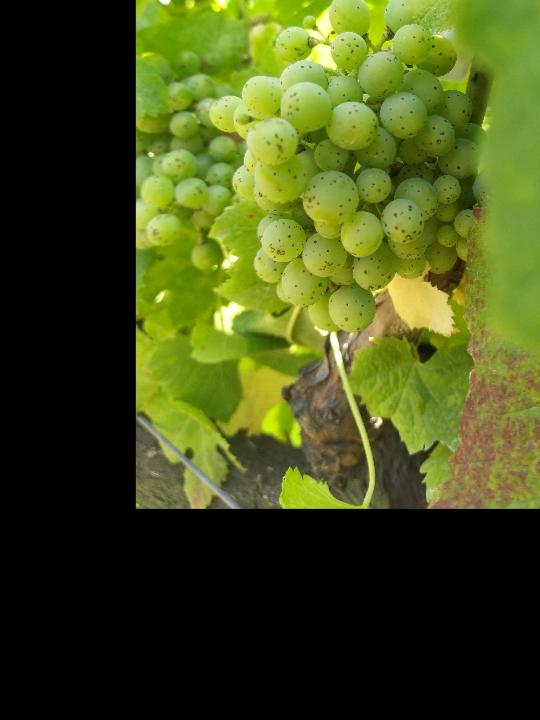grape: (208, 0, 491, 331)
